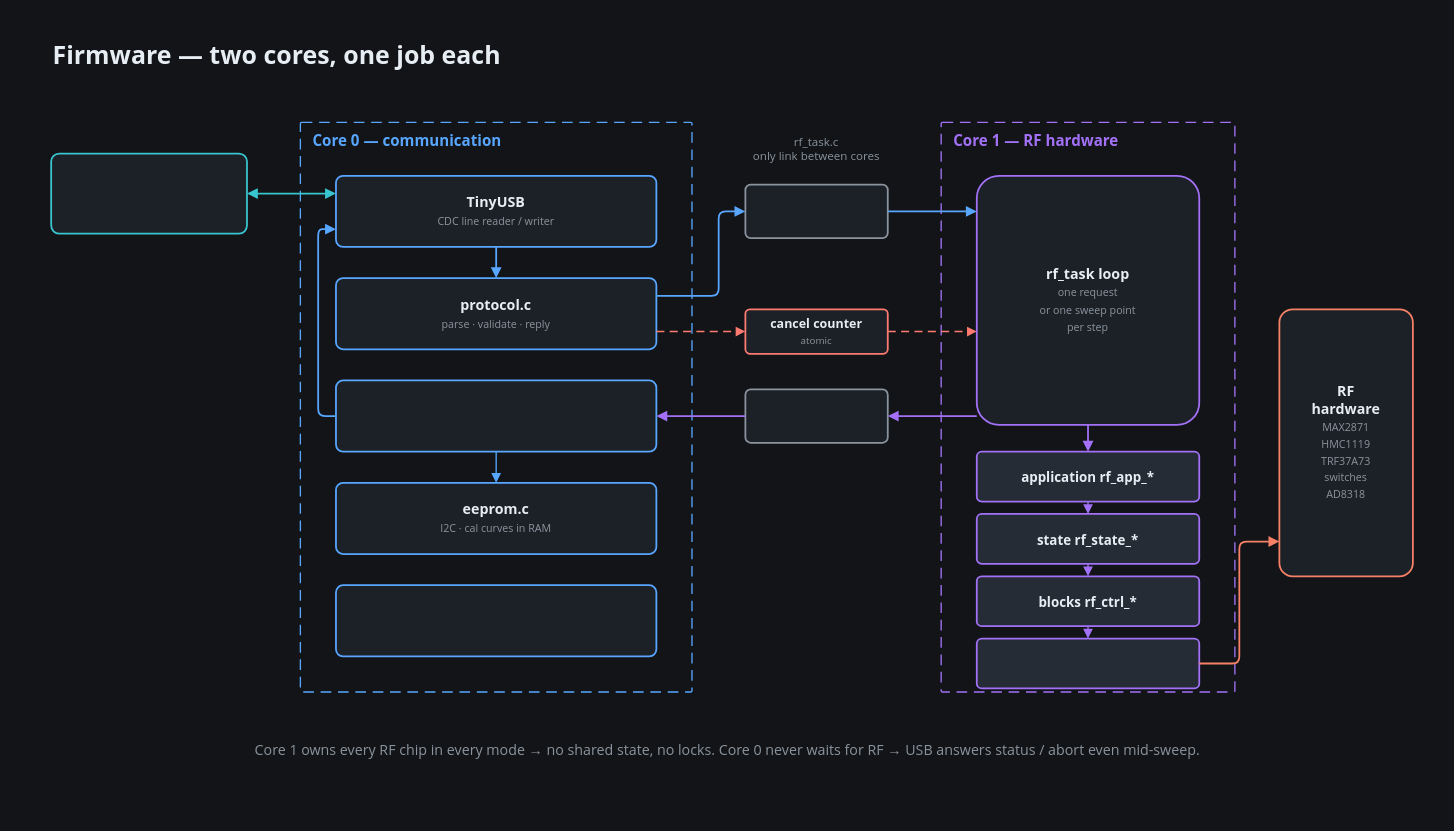
The diagram is 1454 pixels wide and 831 high, and some of its shapes have lost their labels. The centre of each missing label's shape, as x and y in pixels:
HAL hal_*: point 1087,663
main.c · sdi_test.c LEDs · SDI button · watchdog: point 496,620
measurement.c ADC counts → dB − calibration: point 496,415
PC client USB CDC · JSON lines: point 148,193
reply queue 8 entries: point 816,415
request queue 8 entries: point 816,211
